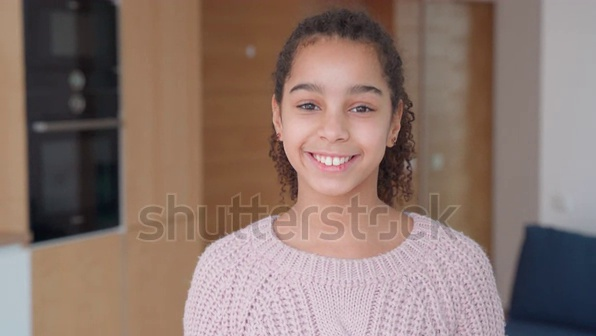No Mask: (276, 128, 392, 193)
